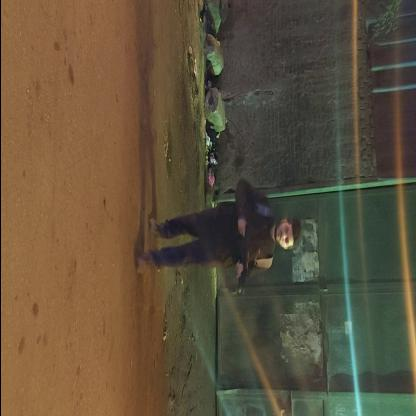long weapon: (228, 190, 260, 300)
